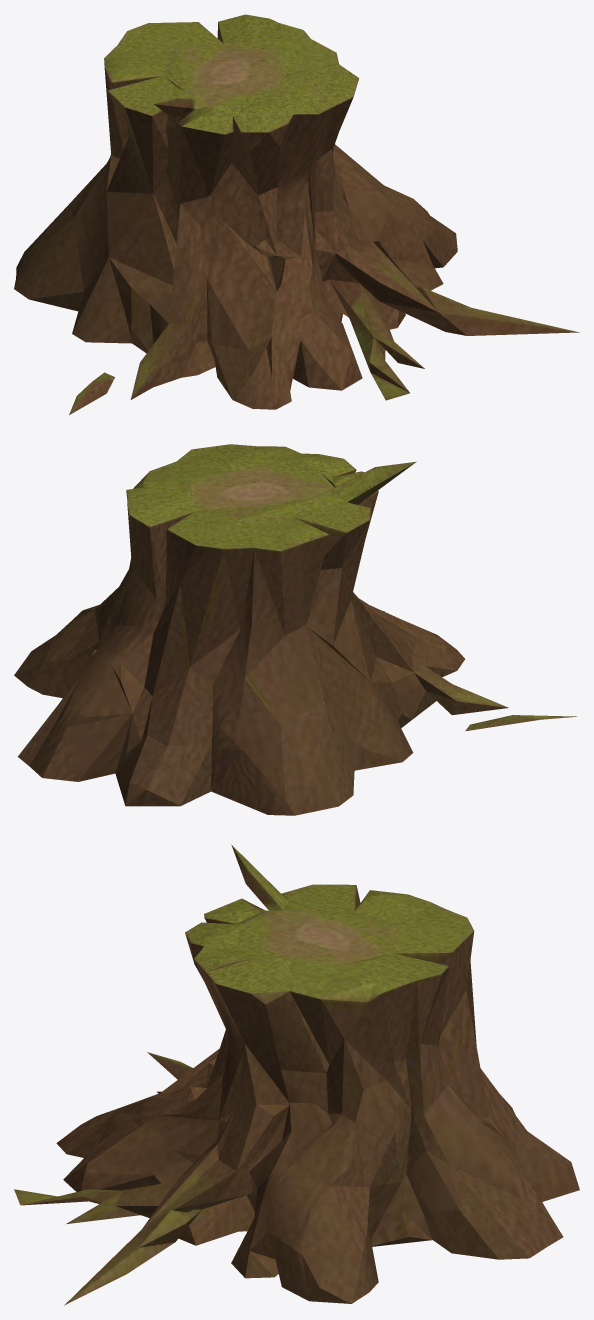
The model's file is stump.glb.
3 renders of one model, top to bottom at view 1: azimuth 30°, elevation 25°; view 2: azimuth 150°, elevation 25°; view 3: azimuth 270°, elevation 25°, orthographic. The views are drawn at different scales.
Size of the model in its own units: 1.87 by 0.9738 by 1.8.
Materials: 1 (1 with a texture image).
